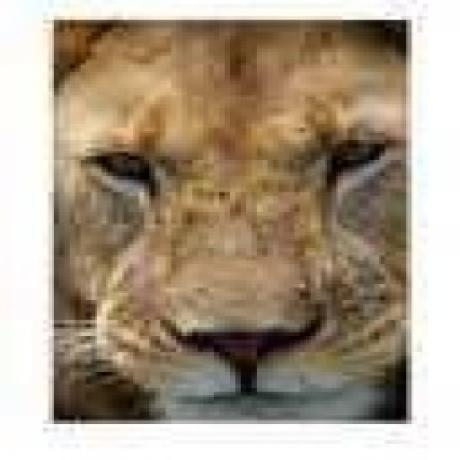Lion: (52, 19, 410, 423)
